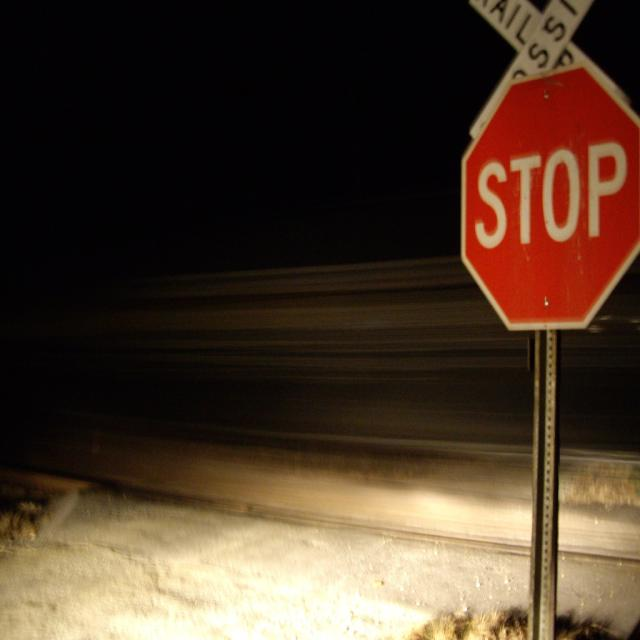Stop-sign: (460, 58, 640, 332)
